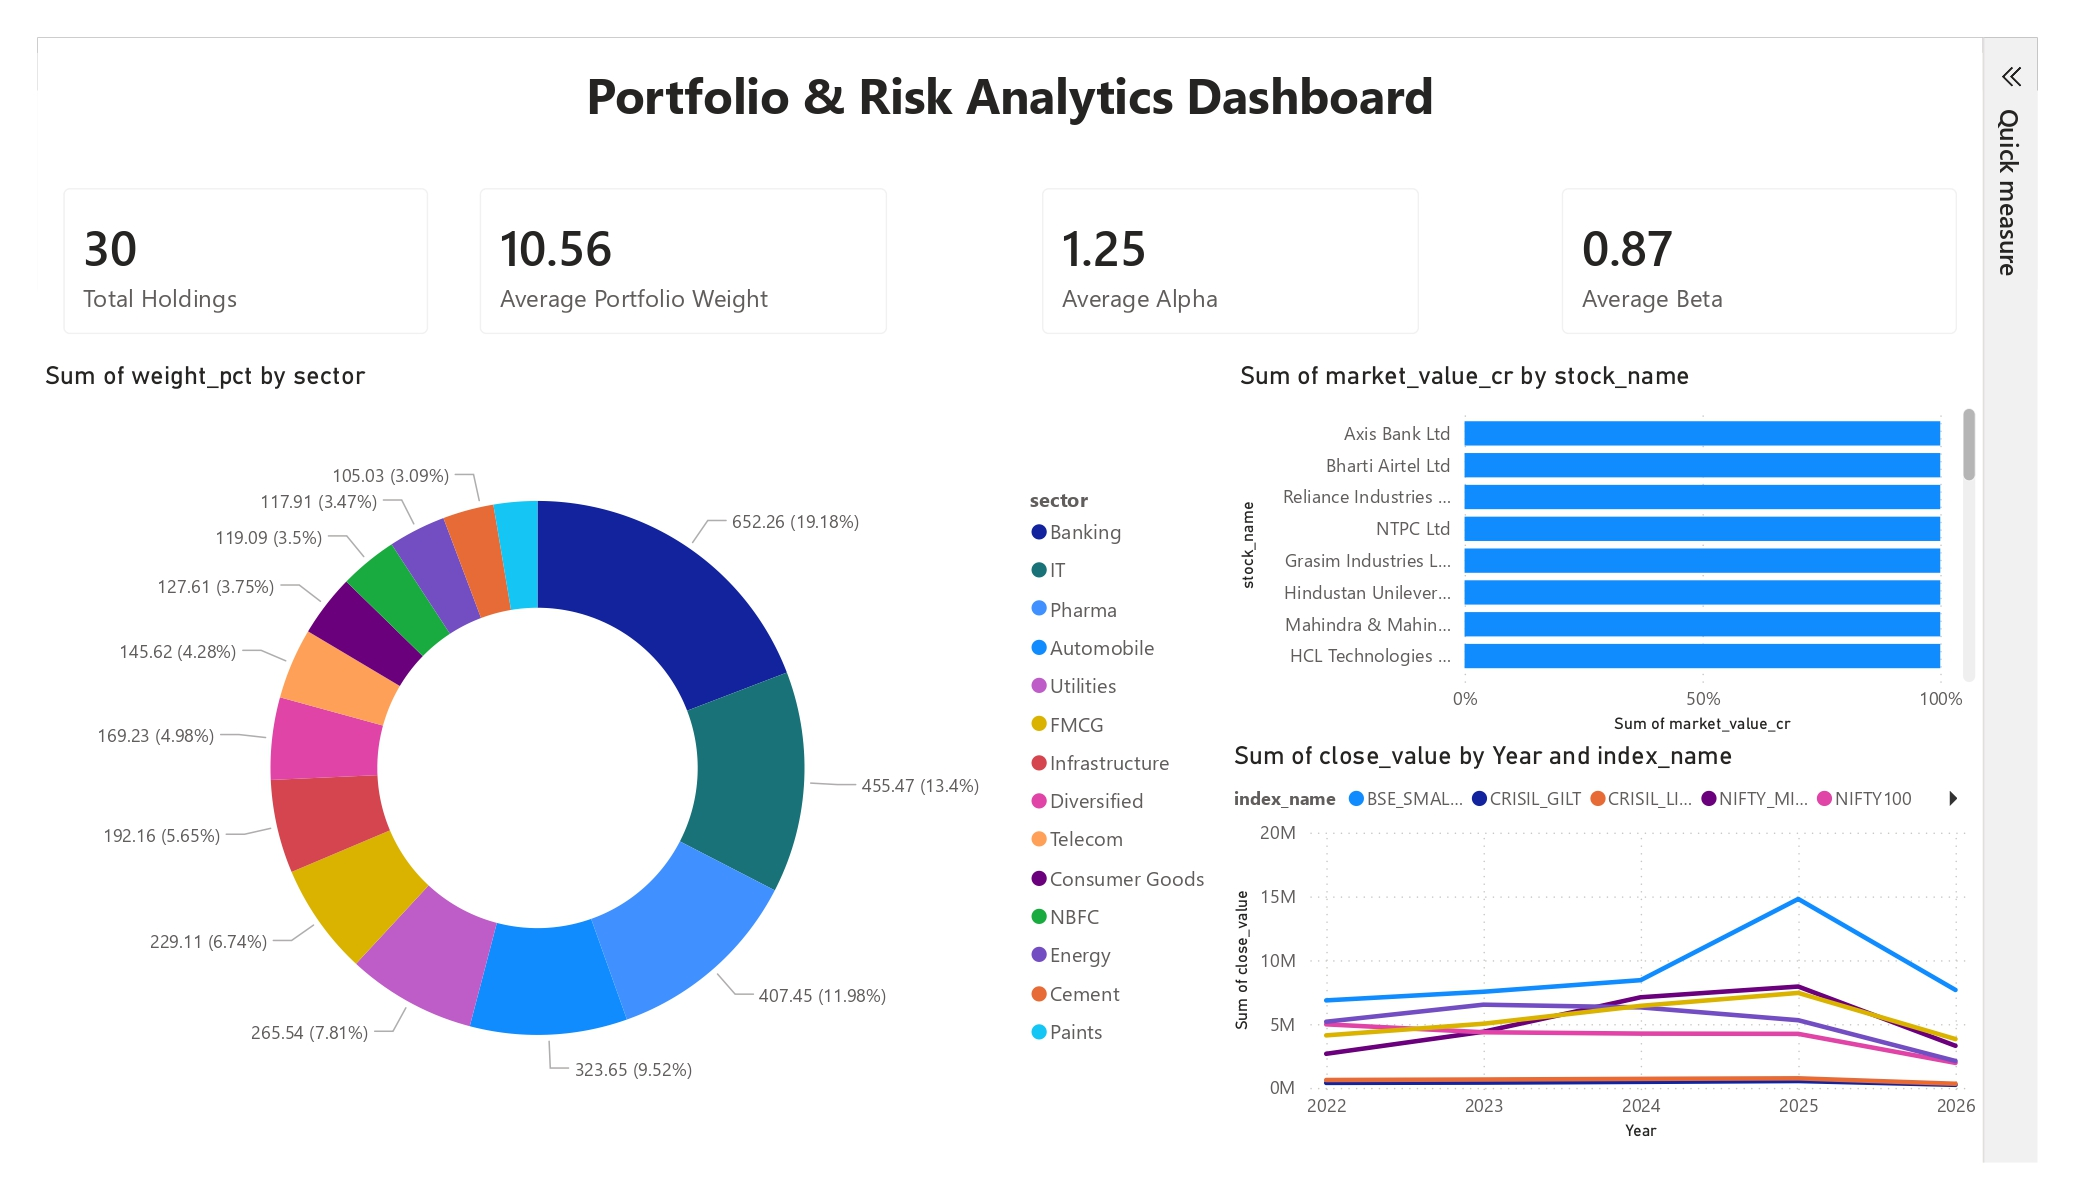

The page's visual inventory and layout, read from the dashboard file:
{"tool":"powerbi","page":{"name":"Portfolio & Risk Analytics","canvas":[1280,720],"ordinal":3},"visuals":[{"type":"textbox","box":[0,0,1280,71.7],"z":0},{"type":"cardVisual","fields":{"Data":["portfolio_clean.Average Portfolio Weight"]},"box":[274,72,302,130],"z":1},{"type":"cardVisual","fields":{"Data":["portfolio_clean.Total Holdings"]},"box":[0,72,274,130],"z":2},{"type":"cardVisual","fields":{"Data":["scheme_performance_clean.Average Alpha"]},"box":[644,72,282,130],"z":3},{"type":"cardVisual","fields":{"Data":["scheme_performance_clean.Average Beta"]},"box":[986,72,294,130],"z":4},{"type":"donutChart","fields":{"Category":["portfolio_clean.sector"],"Y":["Sum(portfolio_clean.weight_pct)"]},"box":[0,202,782,518],"z":5},{"type":"hundredPercentStackedBarChart","fields":{"Category":["portfolio_clean.stock_name"],"Y":["Sum(portfolio_clean.market_value_cr)"]},"box":[786,202,494,250],"z":6},{"type":"lineChart","fields":{"Category":["benchmark_clean.date.Variation.Date Hierarchy.Year","benchmark_clean.date.Variation.Date Hierarchy.Quarter","benchmark_clean.date.Variation.Date Hierarchy.Month","benchmark_clean.date.Variation.Date Hierarchy.Day"],"Y":["Sum(benchmark_clean.close_value)"],"Series":["benchmark_clean.index_name"]},"box":[782,452,498,268],"z":7}]}

Visuals, with their boxes on the page's 1280x720 design canvas (x1, y1, x2, y2). These are canvas units, not pixel positions in the 2075x1200 screenshot, which may show the page scaled, cropped or inside an application window:
textbox: box(0, 0, 1280, 72)
cardVisual - portfolio_clean.Average Portfolio Weight: box(274, 72, 576, 202)
cardVisual - portfolio_clean.Total Holdings: box(0, 72, 274, 202)
cardVisual - scheme_performance_clean.Average Alpha: box(644, 72, 926, 202)
cardVisual - scheme_performance_clean.Average Beta: box(986, 72, 1280, 202)
donutChart - portfolio_clean.sector x Sum(portfolio_clean.weight_pct): box(0, 202, 782, 720)
hundredPercentStackedBarChart - portfolio_clean.stock_name x Sum(portfolio_clean.market_value_cr): box(786, 202, 1280, 452)
lineChart - benchmark_clean.date.Variation.Date Hierarchy.Year x benchmark_clean.date.Variation.Date Hierarchy.Quarter: box(782, 452, 1280, 720)
